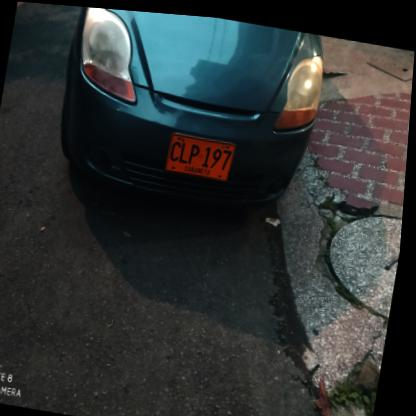placa: (161, 124, 242, 184)
